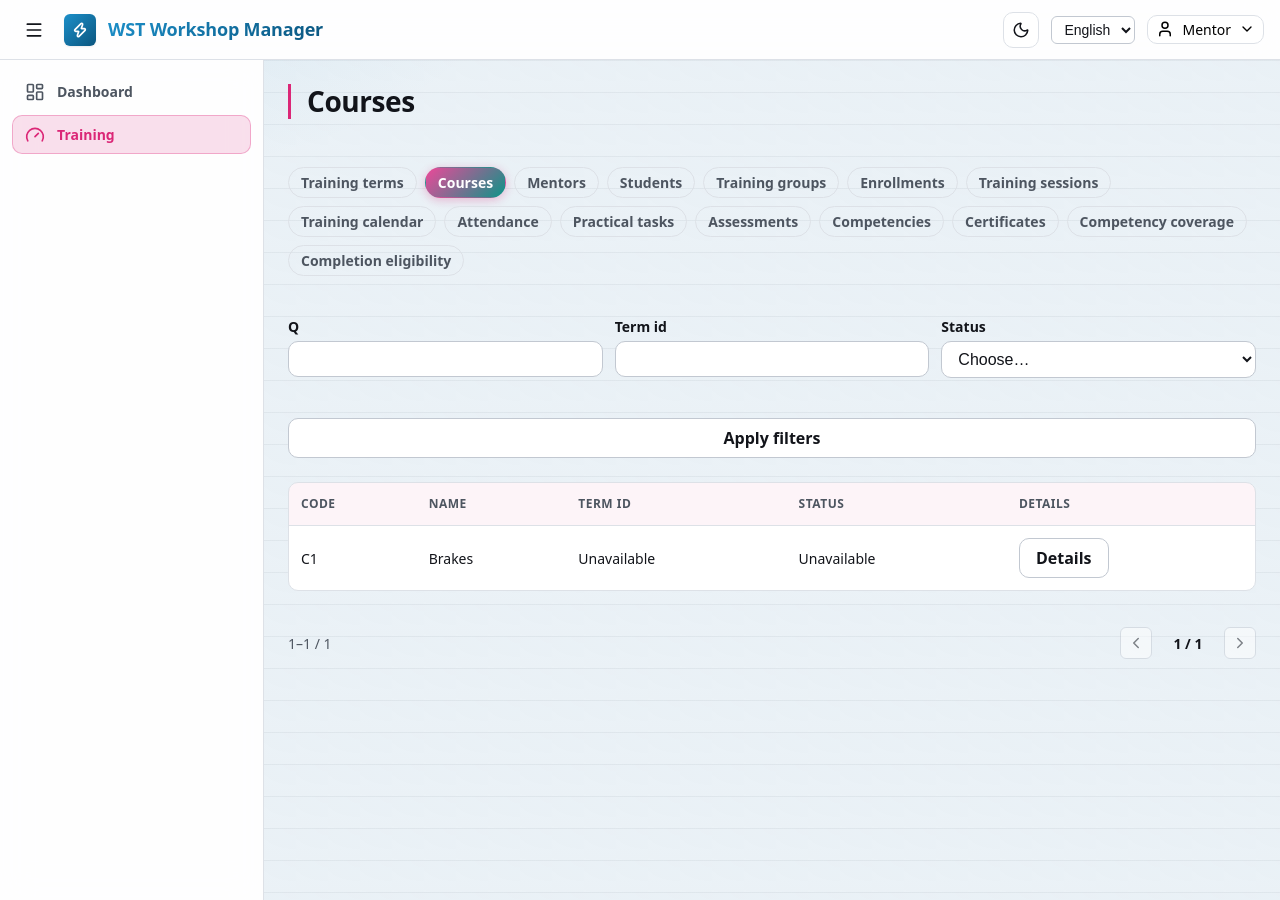
Test: training resources › opens course details from the list without inventing a GET endpoint
Click the button "Details" at (1064,558), box top-left (1019, 538), bottom-right (1108, 578)
(page scrolled)
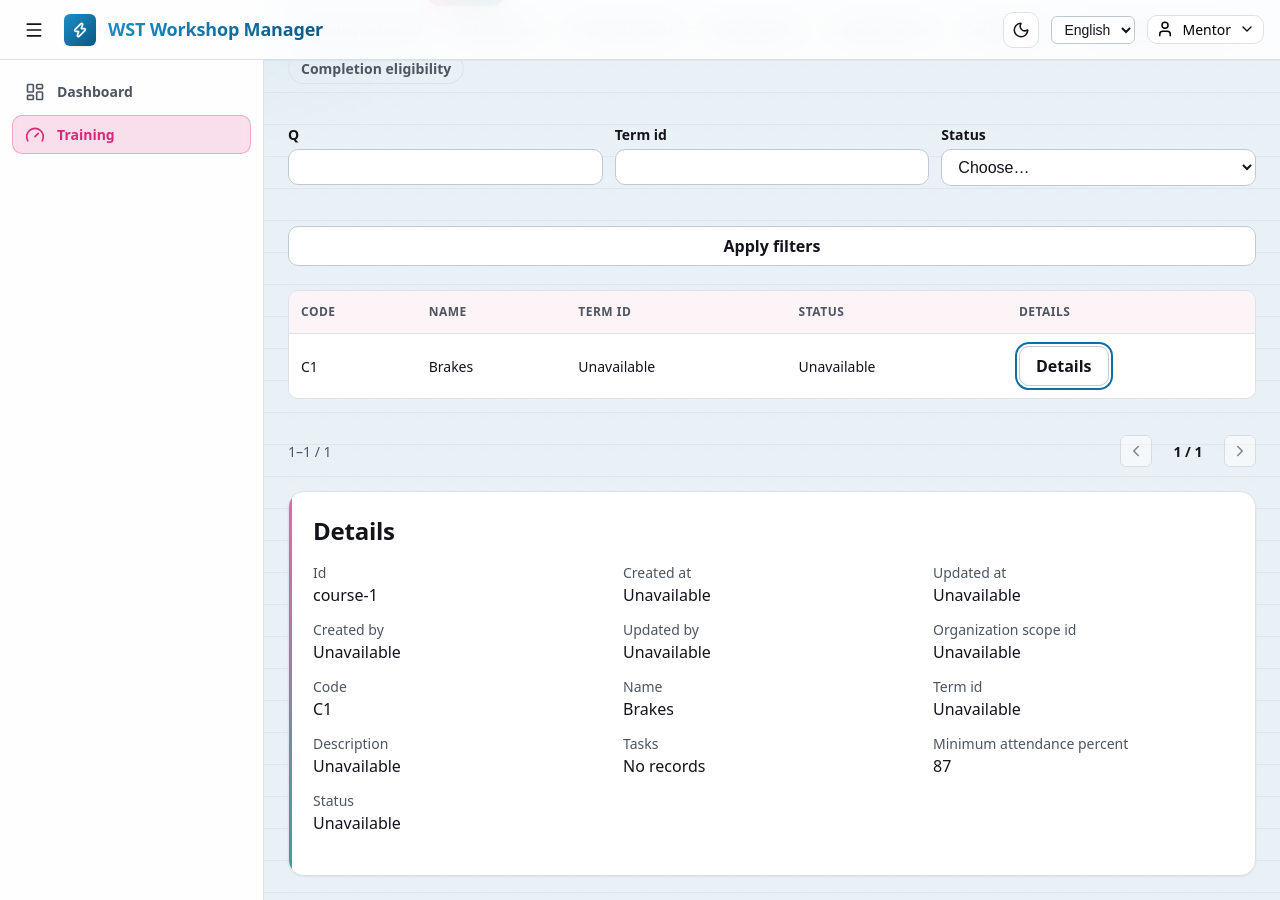
Expected: the text "87" is shown, top-left (933, 755), bottom-right (951, 777)
